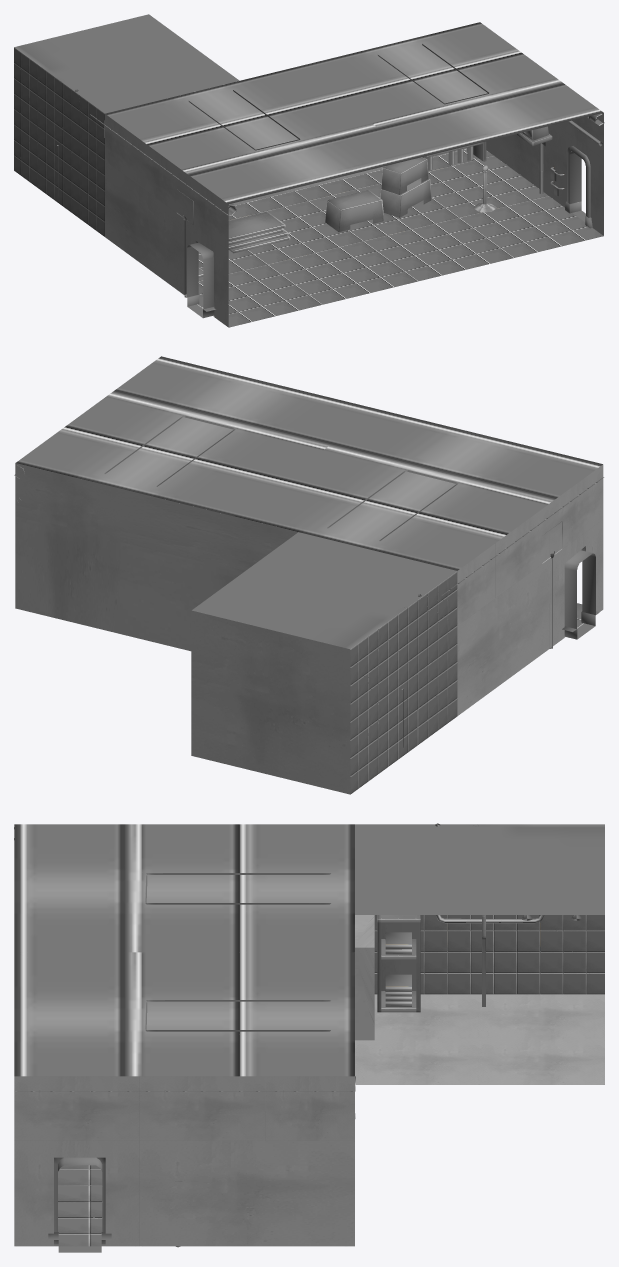
File: MSH_endurance_room_L1_R2_optimized.fbx
The picture shows the model from 3 angles, top to bottom: view 1: azimuth 30°, elevation 25°; view 2: azimuth 150°, elevation 25°; view 3: azimuth 270°, elevation 25°; orthographic projection. The views are drawn at different scales.
Visible parts, largest first — view 1: lightmap1, lightmap0, lightmap-1; view 2: lightmap1, lightmap-1, lightmap0; view 3: lightmap1, lightmap0, lightmap-1.
Part boxes in pixels (x1,y1,x2,y2): lightmap1: (14, 14, 604, 327); lightmap0: (57, 44, 564, 297); lightmap-1: (187, 151, 585, 318); lightmap1: (14, 356, 604, 794); lightmap-1: (564, 550, 595, 639); lightmap0: (104, 415, 562, 747); lightmap1: (14, 823, 604, 1247); lightmap0: (145, 873, 581, 1181); lightmap-1: (58, 1157, 102, 1252).
Bounding box in the file's own units: 20.61 × 6.28 × 19.43.
